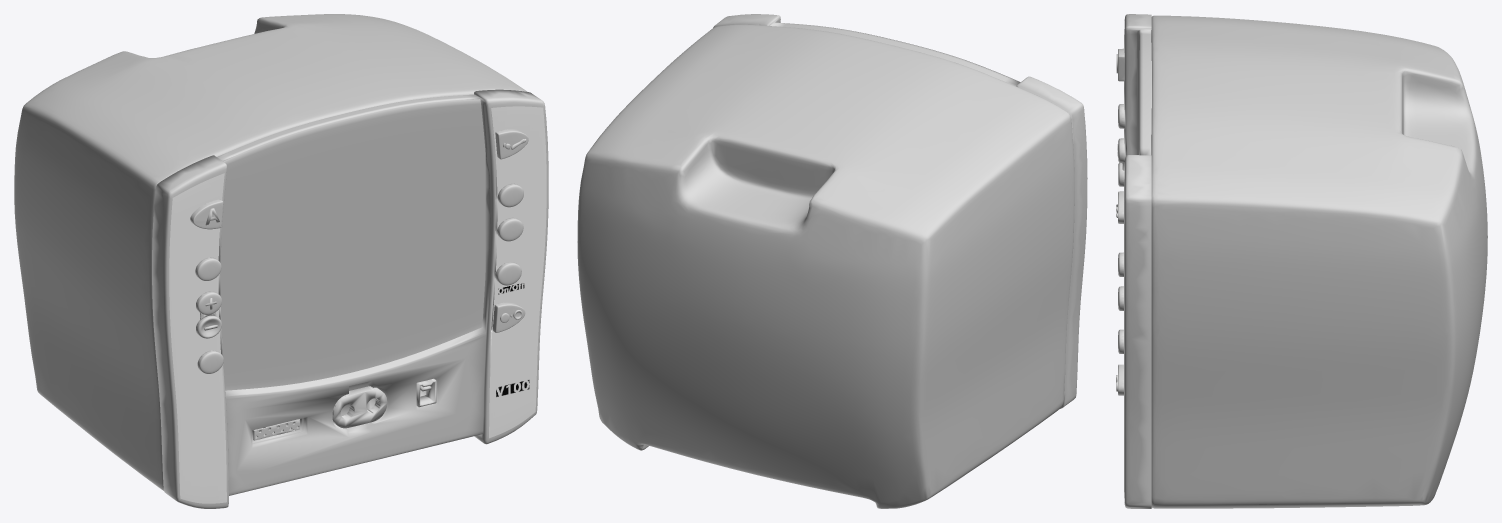
Rendered from blood_pressure.FBX.
3 views of the same model, side by side, from view 1: azimuth 30°, elevation 25°; view 2: azimuth 150°, elevation 25°; view 3: azimuth 270°, elevation 25° (orthographic). The views are drawn at different scales.
Visible parts, largest first — view 1: Group44701, Group32136, Group19399, Object010, Group22092, Object003, Object005, Object009, Object001; view 2: Group44701, Group19399; view 3: Group44701, Group19399.
Part boxes in pixels (bbox=[...]): Group44701: bbox=[14, 14, 527, 490]; Group32136: bbox=[220, 99, 485, 390]; Group19399: bbox=[152, 89, 548, 508]; Object010: bbox=[169, 106, 546, 503]; Group22092: bbox=[332, 386, 387, 428]; Object003: bbox=[196, 291, 221, 338]; Object005: bbox=[491, 302, 525, 332]; Object009: bbox=[495, 129, 528, 159]; Object001: bbox=[190, 199, 223, 229]; Group44701: bbox=[577, 24, 1074, 508]; Group19399: bbox=[713, 14, 1087, 408]; Group44701: bbox=[1151, 15, 1487, 508]; Group19399: bbox=[1124, 14, 1151, 508].
Bounding box in the file's own units: 42.57 × 37.61 × 35.41.
